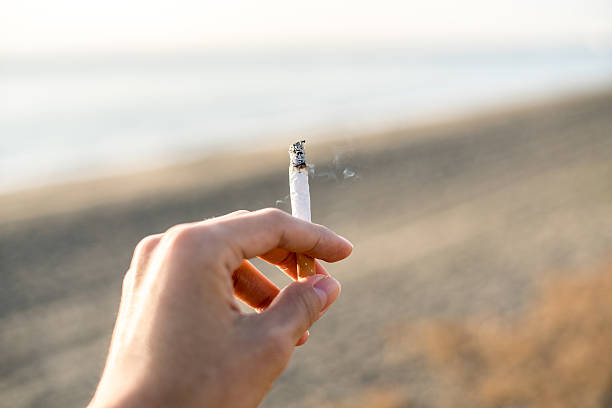cigarette: (286, 142, 317, 283)
